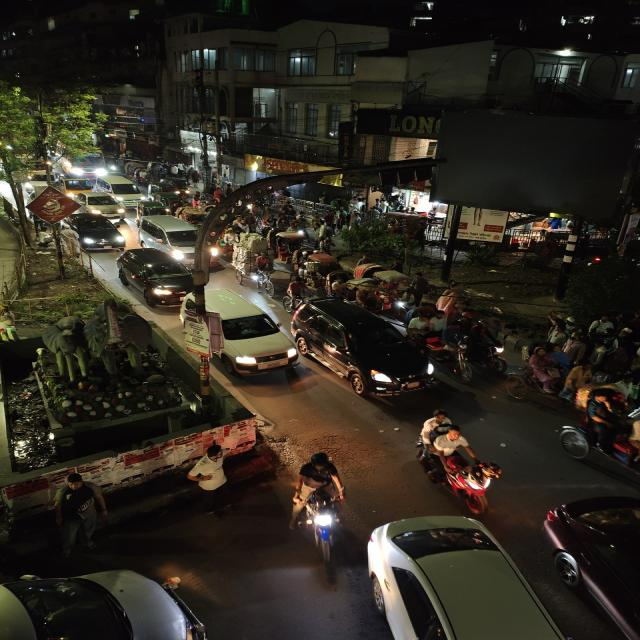bicycle: (279, 276, 314, 314)
car: (358, 510, 594, 640), (0, 565, 220, 640), (541, 492, 640, 640), (298, 295, 437, 400), (195, 288, 301, 374), (114, 246, 198, 306), (136, 215, 224, 255), (62, 211, 129, 251), (69, 191, 128, 217), (96, 175, 146, 202)
motorcycle: (414, 407, 508, 513), (289, 448, 348, 562), (457, 322, 509, 374)
pedestrian: (51, 474, 111, 552), (185, 441, 239, 498)
pickup_van: (57, 177, 97, 193)
rickshaw: (552, 389, 640, 474), (508, 350, 605, 410), (230, 242, 280, 294), (406, 309, 457, 355), (293, 246, 332, 285), (176, 202, 216, 226)
